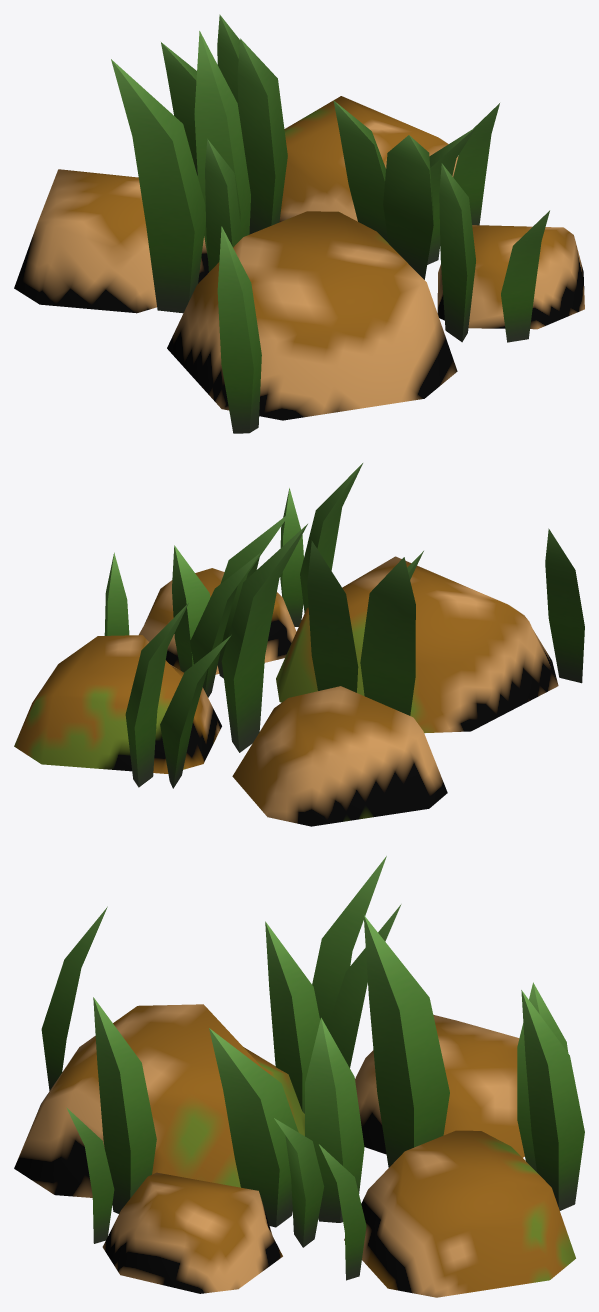
Rendered from deco_rocks_A_grass.FBX.
3 renders of one model, top to bottom at view 1: azimuth 30°, elevation 25°; view 2: azimuth 150°, elevation 25°; view 3: azimuth 270°, elevation 25°, orthographic. The views are drawn at different scales.
Parts seen in each view (by area): view 1: deco_rocks_A_grass; view 2: deco_rocks_A_grass; view 3: deco_rocks_A_grass.
Boxes of the visible parts, left/top/right/bottom form: deco_rocks_A_grass: left=14, top=14, right=584, bottom=433; deco_rocks_A_grass: left=14, top=463, right=584, bottom=826; deco_rocks_A_grass: left=14, top=856, right=584, bottom=1297.
Size of the model in its own units: 1.79 by 0.9443 by 1.91.
1 material, 1 textured.
